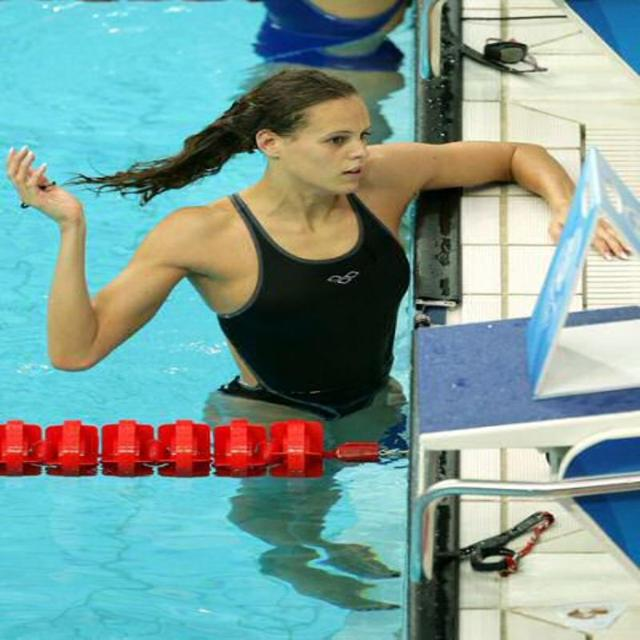Face: (288, 89, 382, 202)
